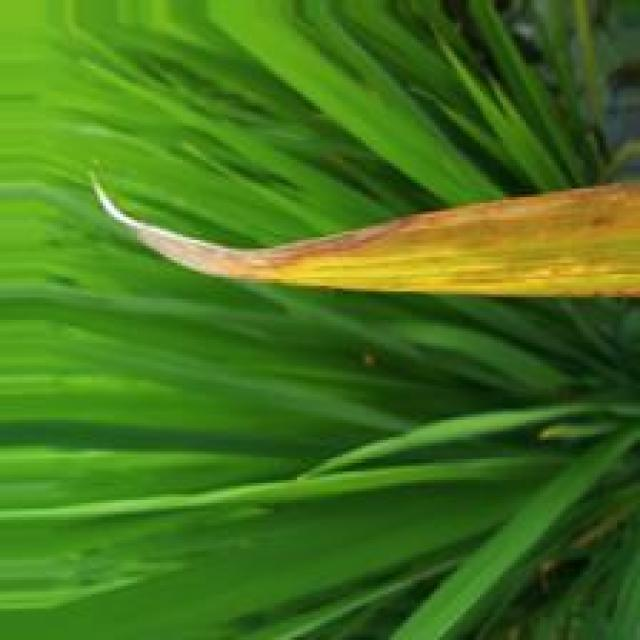Rice False Smut: (146, 215, 421, 281)
